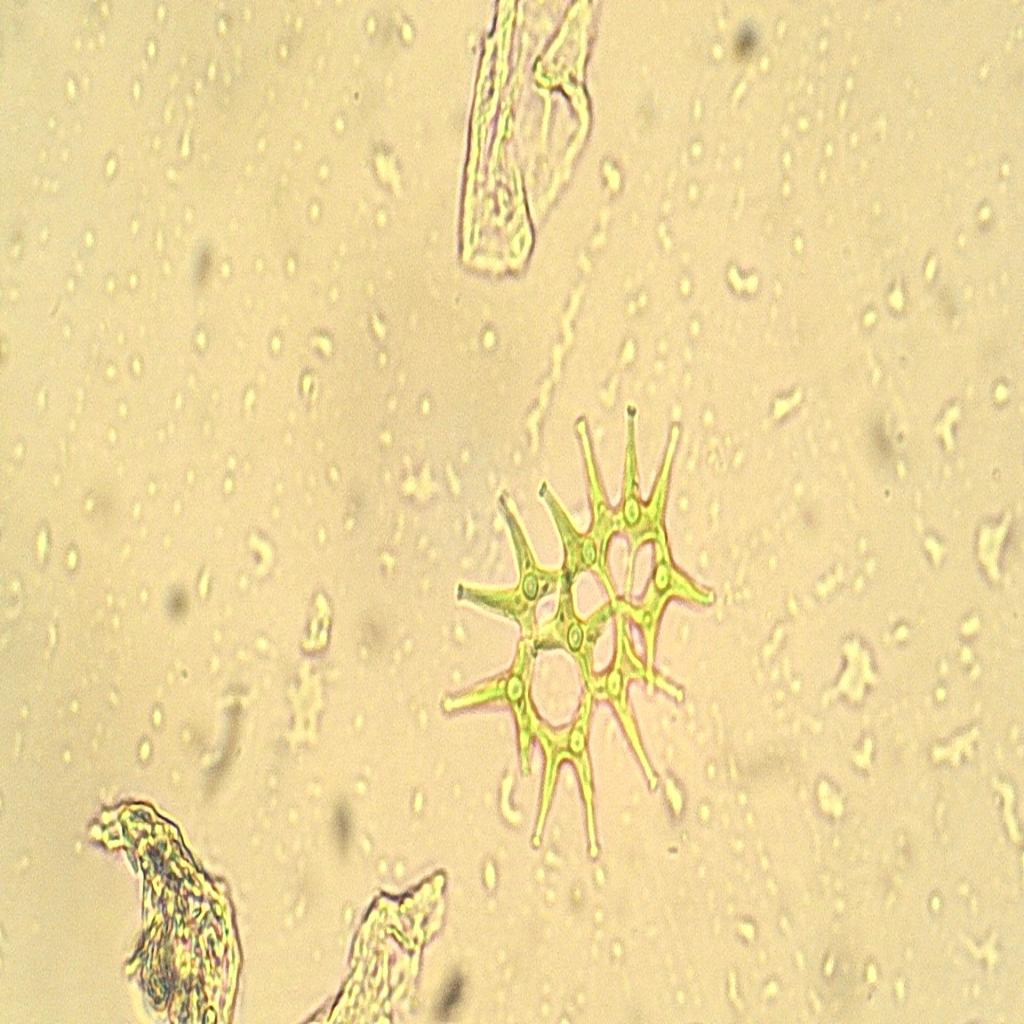Pediastrum_CFI: (436, 375, 741, 887)
